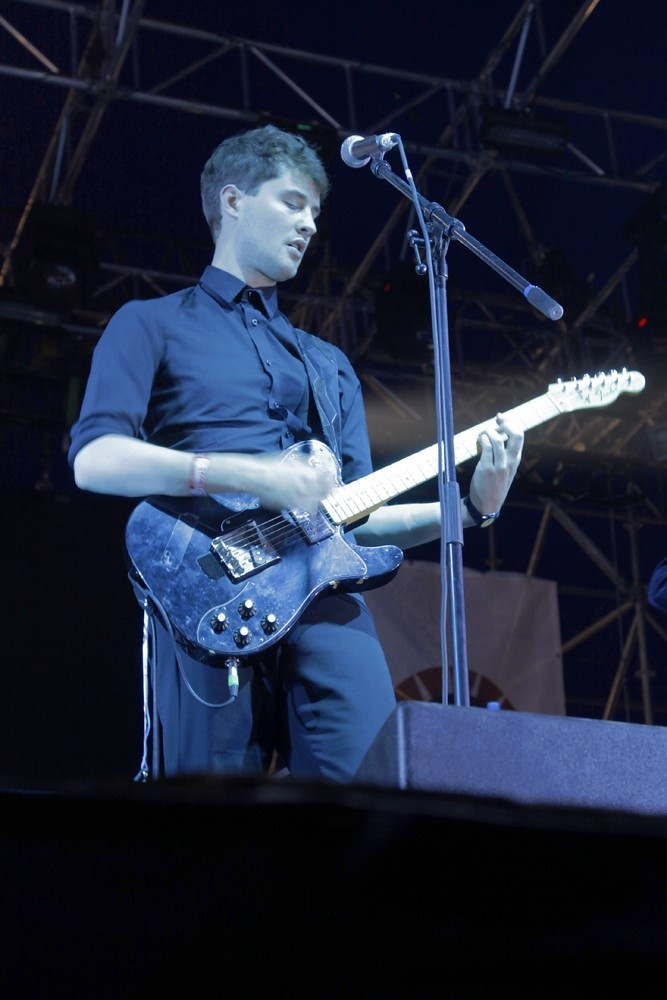face_no_mask: (198, 123, 328, 282)
